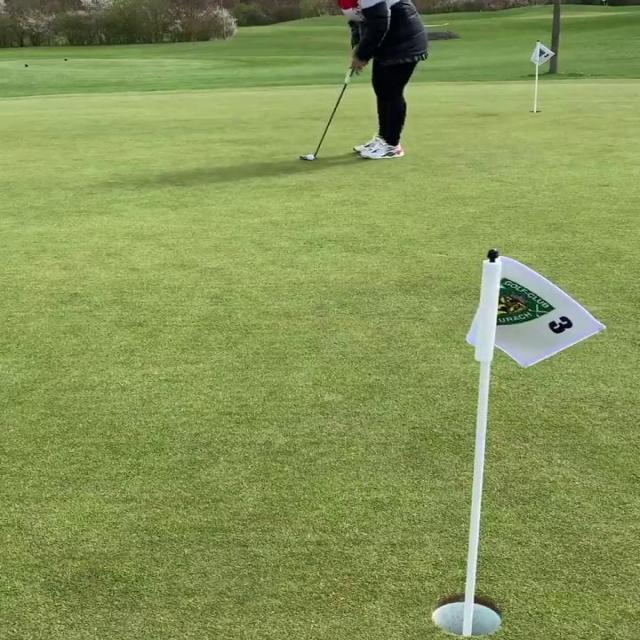ClubHead: (299, 154, 315, 160)
GolfBall: (306, 154, 314, 160)
